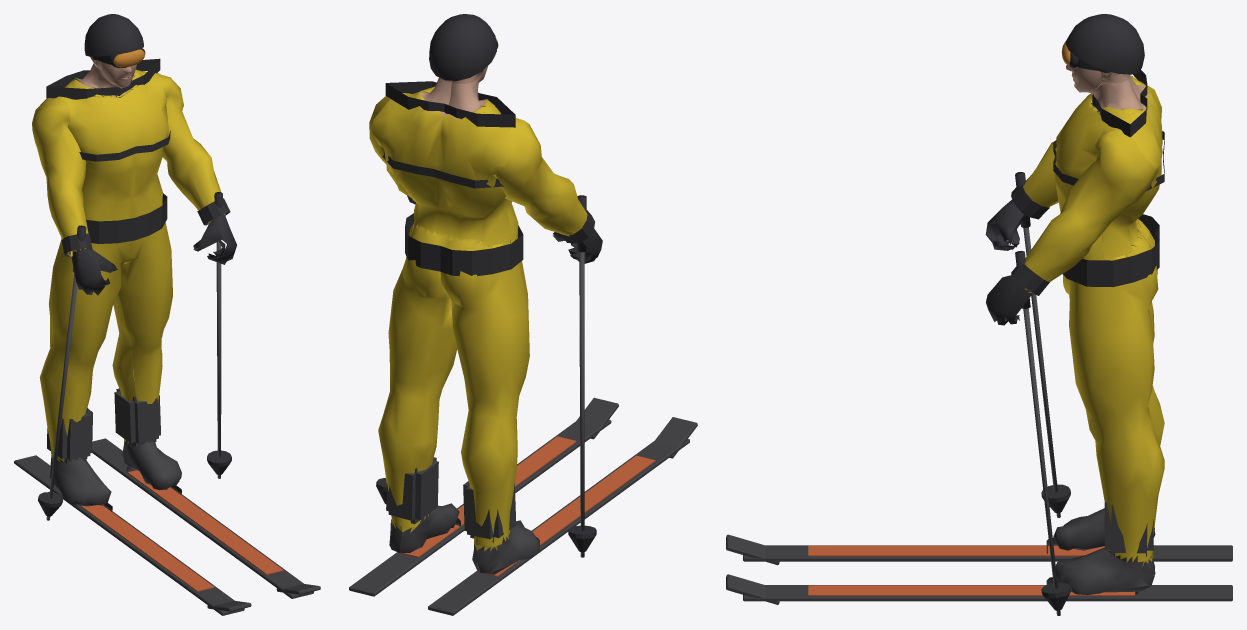
File: guest-1.glb
3 renders of one model, left to right at view 1: azimuth 30°, elevation 25°; view 2: azimuth 150°, elevation 25°; view 3: azimuth 270°, elevation 25°, orthographic. The views are drawn at different scales.
Parts seen in each view (by area): view 1: guest-1; view 2: guest-1; view 3: guest-1.
Part boxes in pixels (x1,y1,x2,y2): guest-1: [14, 14, 320, 615]; guest-1: [349, 14, 697, 615]; guest-1: [726, 14, 1232, 615].
Bounding box in the file's own units: 0.7922 × 1.9 × 1.55.
